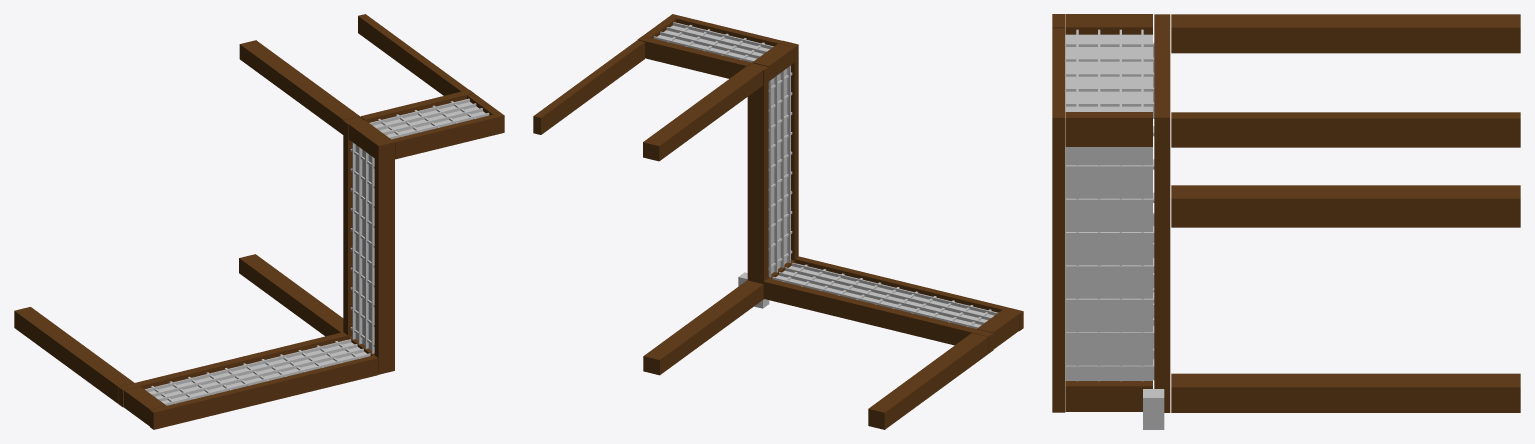
Rendered from arco+cubo.obj.
3 renders of one model, left to right at view 1: azimuth 30°, elevation 25°; view 2: azimuth 150°, elevation 25°; view 3: azimuth 270°, elevation 25°, orthographic. The views are drawn at different scales.
Parts seen in each view (by area): view 1: group_0_6306067, group_0_11107152, group_0_14860437; view 2: group_0_6306067, group_0_11107152, group_0_14860437; view 3: group_0_6306067, group_0_14860437, group_0_11107152, group_0_16755786.
Part boxes in pixels (left/top/right/bottom): group_0_6306067: left=14, top=14, right=504, bottom=429; group_0_11107152: left=145, top=98, right=489, bottom=405; group_0_14860437: left=148, top=102, right=485, bottom=403; group_0_6306067: left=533, top=14, right=1023, bottom=429; group_0_11107152: left=653, top=22, right=997, bottom=328; group_0_14860437: left=657, top=23, right=994, bottom=326; group_0_6306067: left=1052, top=14, right=1520, bottom=412; group_0_14860437: left=1065, top=34, right=1152, bottom=380; group_0_11107152: left=1066, top=29, right=1154, bottom=381; group_0_16755786: left=1143, top=389, right=1164, bottom=429.
Size of the model in its own units: 128 by 84 by 88.1.
